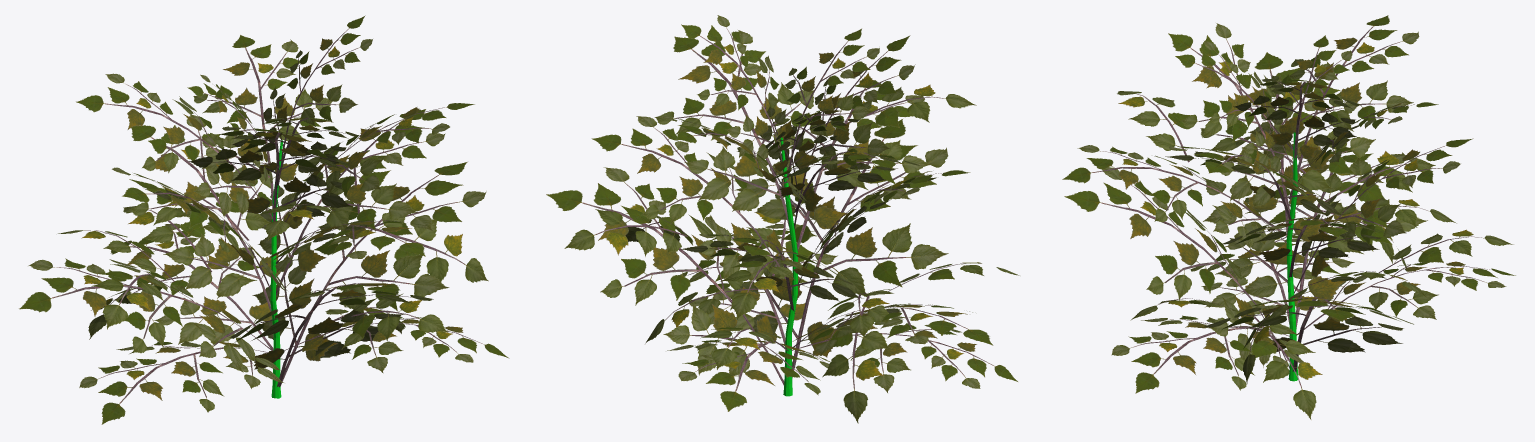
Rendered from PW_Plant_Bush_01_04.fbx.
The picture shows the model from 3 angles, left to right: view 1: azimuth 30°, elevation 25°; view 2: azimuth 150°, elevation 25°; view 3: azimuth 270°, elevation 25°; orthographic projection. The views are drawn at different scales.
Visible parts, largest first — view 1: PW_Plants_Bushes_04_LOD0; view 2: PW_Plants_Bushes_04_LOD0; view 3: PW_Plants_Bushes_04_LOD0.
Boxes of the visible parts, x1,y1,x2,y2 form: PW_Plants_Bushes_04_LOD0: [19, 15, 509, 424]; PW_Plants_Bushes_04_LOD0: [546, 15, 1019, 423]; PW_Plants_Bushes_04_LOD0: [1062, 15, 1515, 419].
Size of what is drawn, in the model's own units: 138 by 102 by 124.
2 materials, 1 textured.
